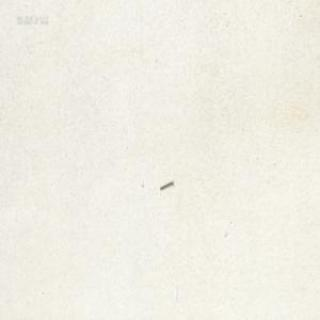Bolttrack_idkeyframe: (158, 178, 172, 189)
